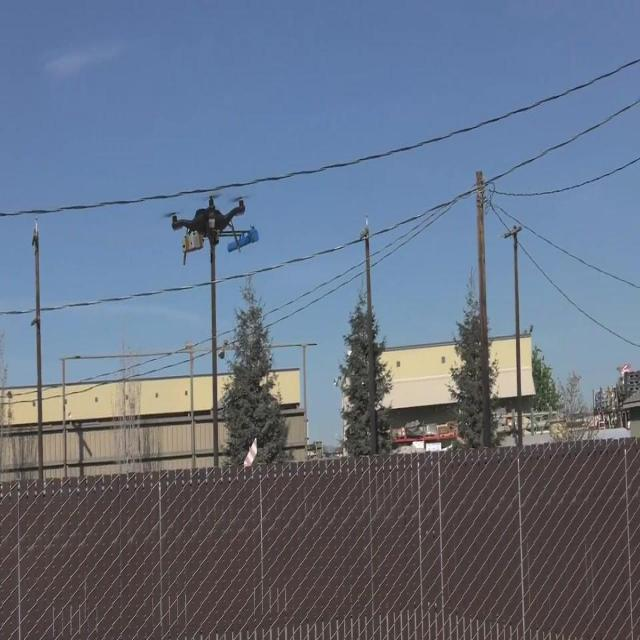UAV: (170, 191, 246, 269)
